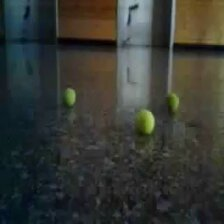tennis: (133, 109, 155, 136), (63, 88, 76, 109), (165, 94, 180, 112)
